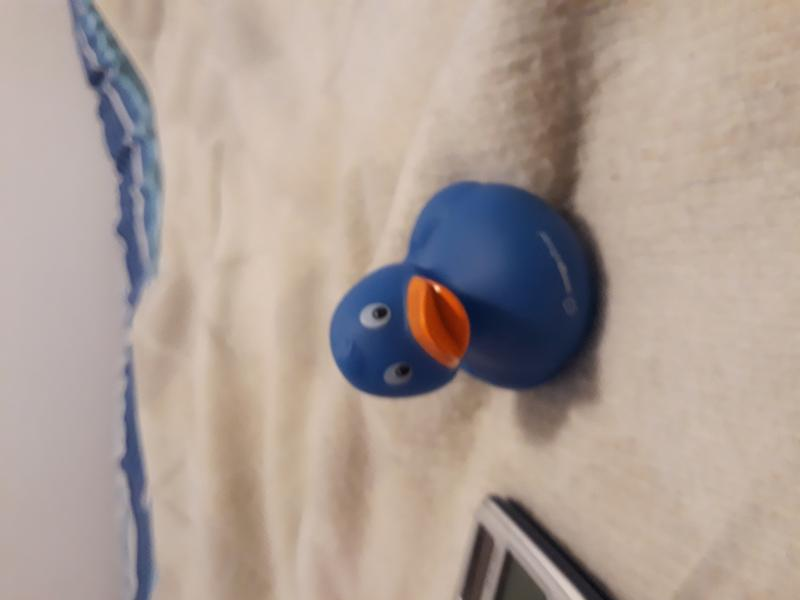plava_patkica: (319, 175, 588, 413)
